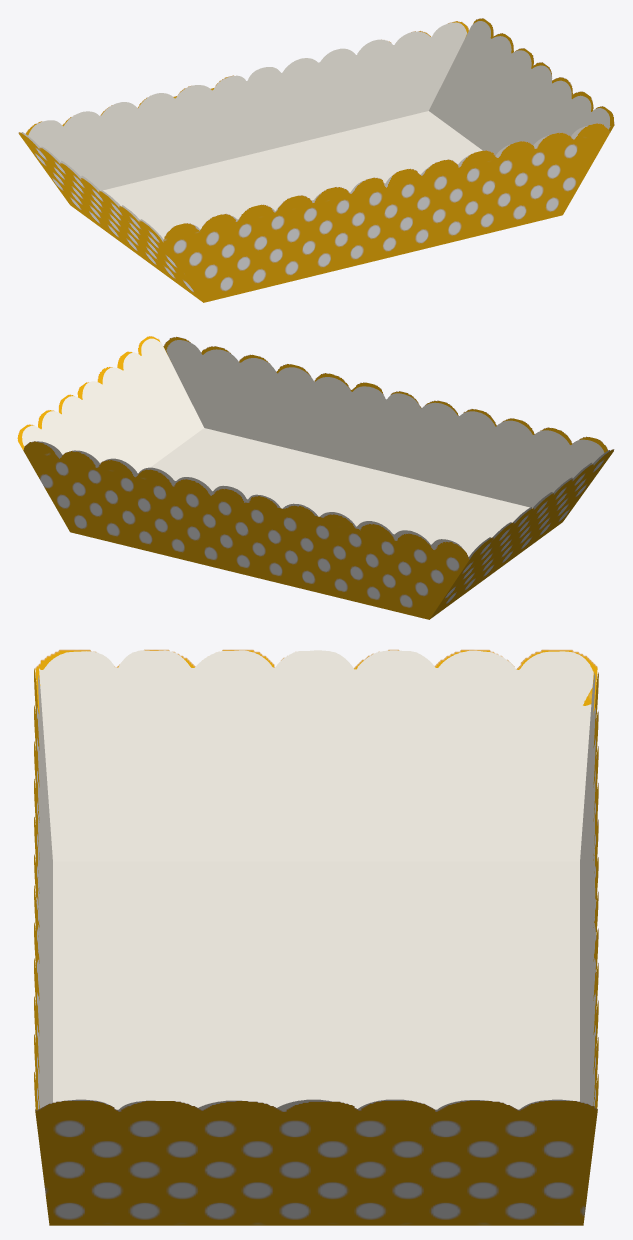
Rendered from food-boat.FBX.
3 renders of one model, top to bottom at view 1: azimuth 30°, elevation 25°; view 2: azimuth 150°, elevation 25°; view 3: azimuth 270°, elevation 25°, orthographic. The views are drawn at different scales.
Parts seen in each view (by area): view 1: Box001; view 2: Box001; view 3: Box001.
Part boxes in pixels (x1,y1,x2,y2): Box001: [18, 18, 614, 302]; Box001: [17, 336, 614, 619]; Box001: [34, 649, 598, 1225].
Size of the model in its own units: 113 by 20.47 by 59.6.
